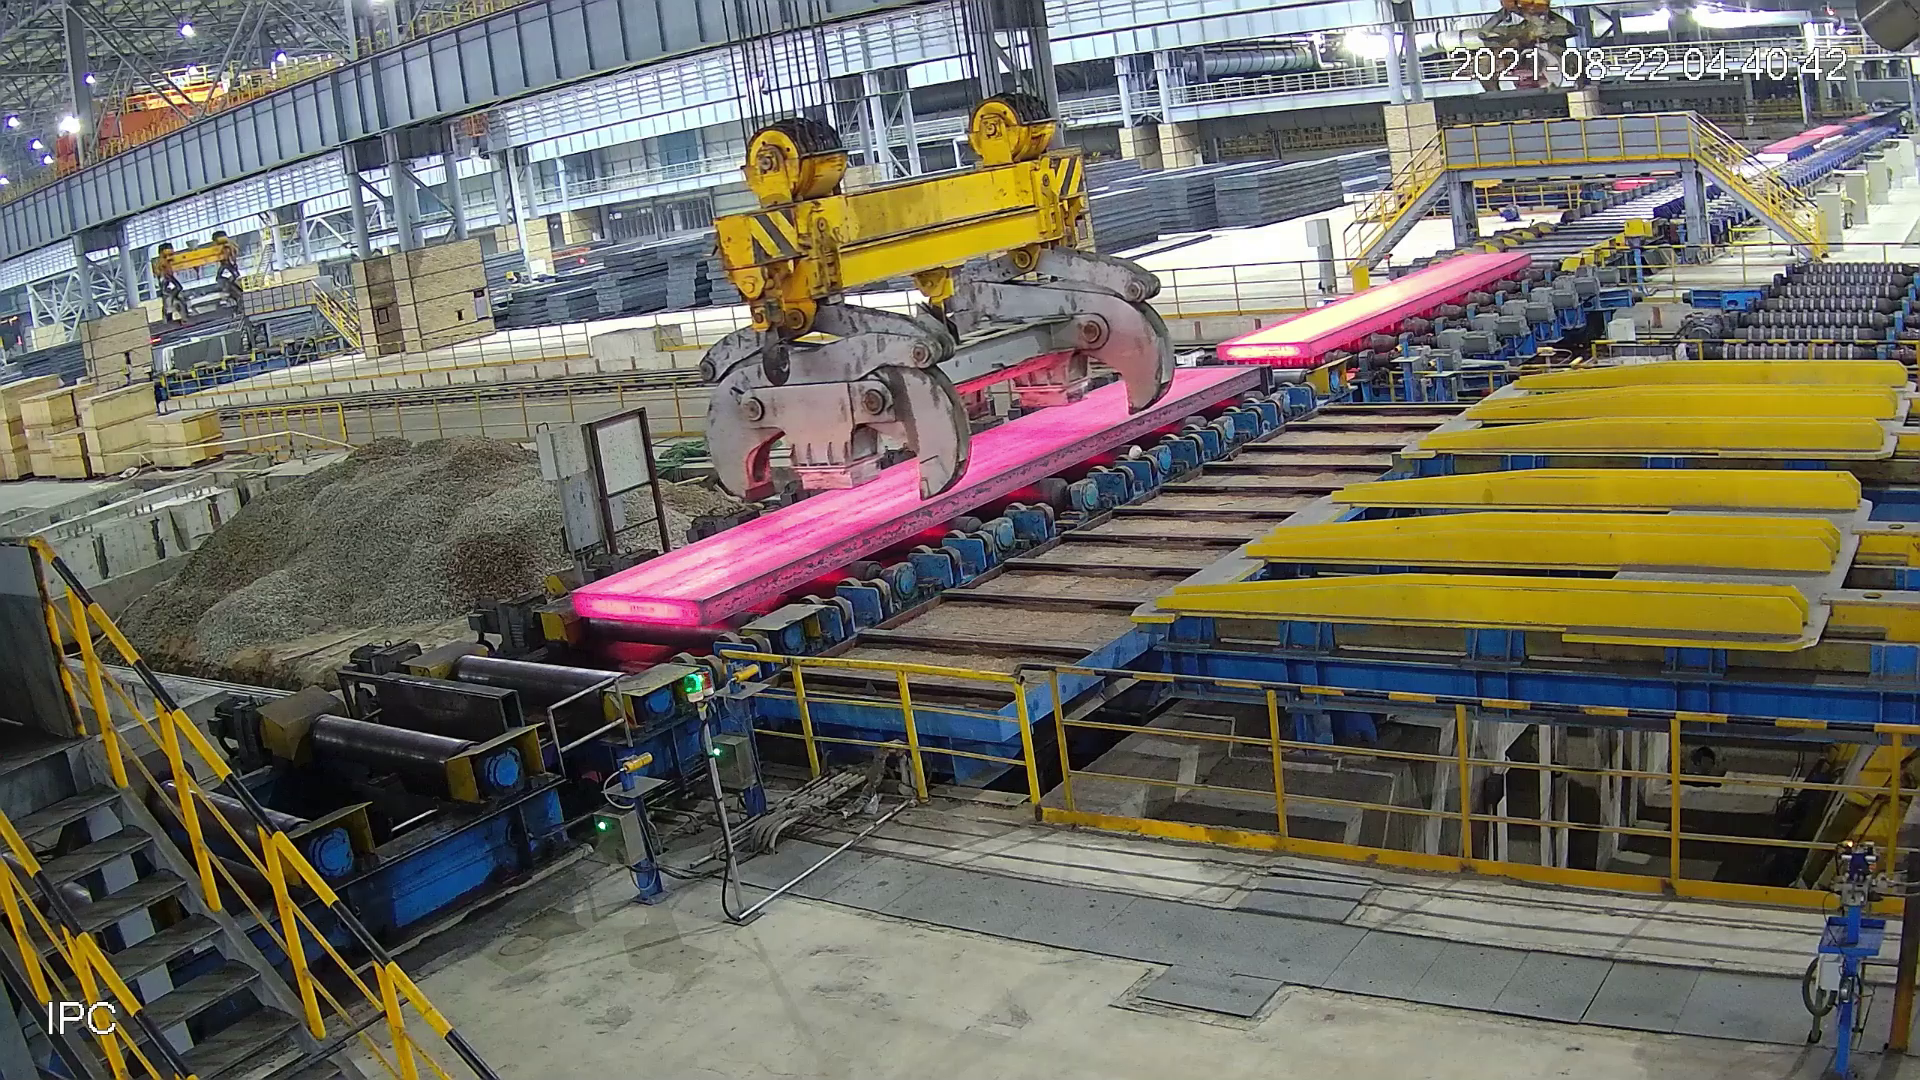crane: (682, 82, 1185, 505)
craneandslab: (1469, 1, 1613, 105)
slab: (564, 364, 1269, 632), (1208, 245, 1535, 365)
